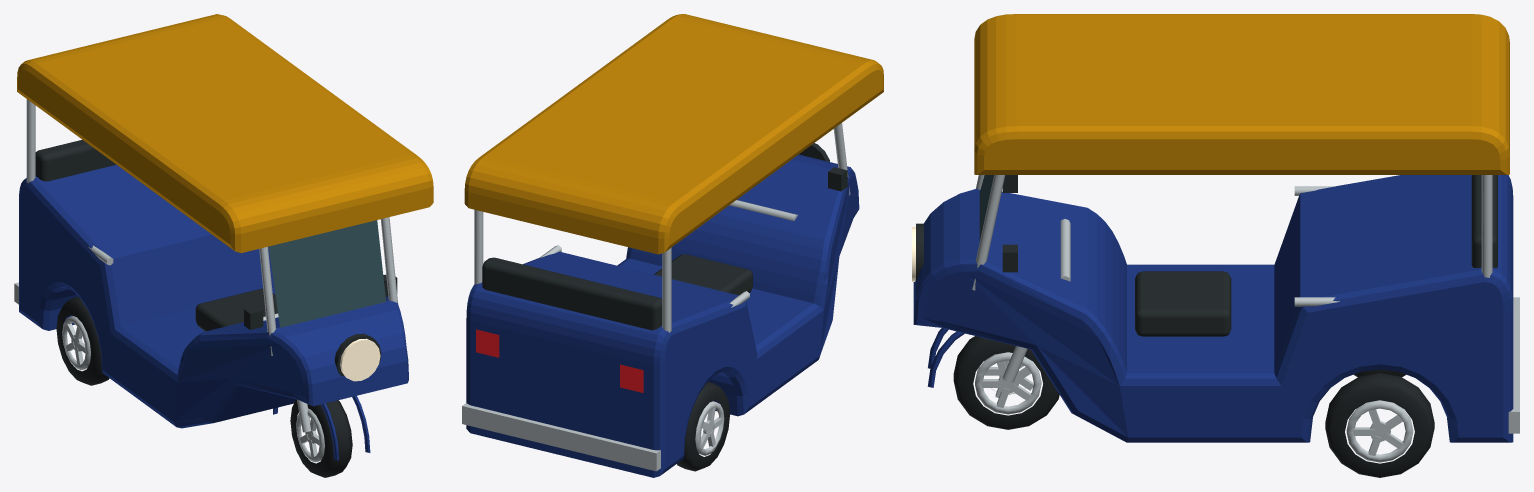
Rendered from veh.tuktuk.gltf.
The picture shows the model from 3 angles, left to right: view 1: azimuth 30°, elevation 25°; view 2: azimuth 150°, elevation 25°; view 3: azimuth 270°, elevation 25°; orthographic projection. The views are drawn at different scales.
Visible parts, largest first — view 1: veh.tuktuk/vehicle:car_paint:ca8a04, veh.tuktuk/vehicle:car_paint:1e3a8a, veh.tuktuk/vehicle:glass_vehicle:334f58, veh.tuktuk/vehicle:chrome:bfc8cc, veh.tuktuk/vehicle:plastic_trim_black:242b2c, veh.tuktuk/vehicle:rubber_tire:202527, veh.tuktuk/vehicle:lamp_lens:fff3d8; view 2: veh.tuktuk/vehicle:car_paint:1e3a8a, veh.tuktuk/vehicle:car_paint:ca8a04, veh.tuktuk/vehicle:plastic_trim_black:242b2c, veh.tuktuk/vehicle:chrome:bfc8cc, veh.tuktuk/vehicle:rubber_tire:202527, veh.tuktuk/vehicle:tail_light_red:de252b; view 3: veh.tuktuk/vehicle:car_paint:1e3a8a, veh.tuktuk/vehicle:car_paint:ca8a04, veh.tuktuk/vehicle:chrome:bfc8cc, veh.tuktuk/vehicle:rubber_tire:202527, veh.tuktuk/vehicle:plastic_trim_black:242b2c.
Part boxes in pixels (box(x1,y1,x2,y2)): veh.tuktuk/vehicle:car_paint:ca8a04: box(17, 14, 433, 253); veh.tuktuk/vehicle:car_paint:1e3a8a: box(19, 165, 408, 460); veh.tuktuk/vehicle:glass_vehicle:334f58: box(268, 220, 386, 327); veh.tuktuk/vehicle:chrome:bfc8cc: box(14, 99, 398, 462); veh.tuktuk/vehicle:plastic_trim_black:242b2c: box(35, 139, 397, 376); veh.tuktuk/vehicle:rubber_tire:202527: box(56, 297, 352, 477); veh.tuktuk/vehicle:lamp_lens:fff3d8: box(340, 338, 380, 381); veh.tuktuk/vehicle:car_paint:1e3a8a: box(466, 154, 859, 477); veh.tuktuk/vehicle:car_paint:ca8a04: box(464, 14, 883, 254); veh.tuktuk/vehicle:plastic_trim_black:242b2c: box(482, 143, 847, 330); veh.tuktuk/vehicle:chrome:bfc8cc: box(462, 123, 850, 471); veh.tuktuk/vehicle:rubber_tire:202527: box(677, 382, 729, 471); veh.tuktuk/vehicle:tail_light_red:de252b: box(476, 329, 643, 392); veh.tuktuk/vehicle:car_paint:1e3a8a: box(913, 175, 1513, 442); veh.tuktuk/vehicle:car_paint:ca8a04: box(974, 14, 1509, 174); veh.tuktuk/vehicle:chrome:bfc8cc: box(972, 175, 1519, 462); veh.tuktuk/vehicle:rubber_tire:202527: box(953, 336, 1434, 477); veh.tuktuk/vehicle:plastic_trim_black:242b2c: box(916, 175, 1497, 336).
Bounding box in the file's own units: 1.3 × 1.8 × 2.78.
